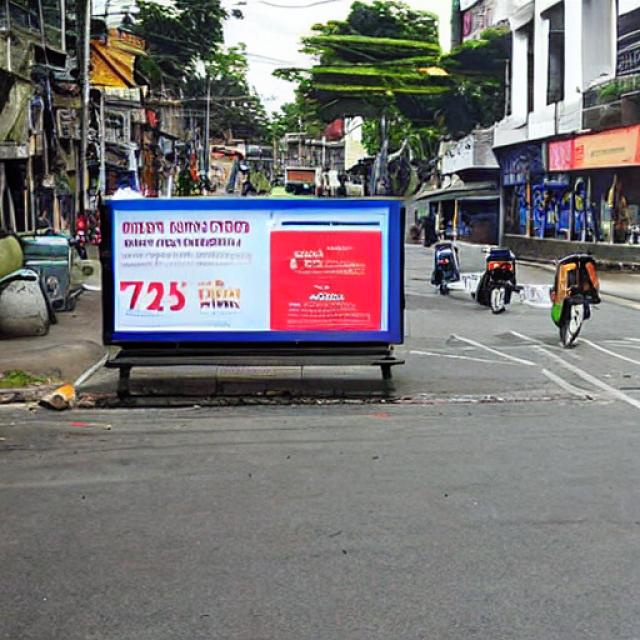Billboard: (100, 199, 407, 352)
